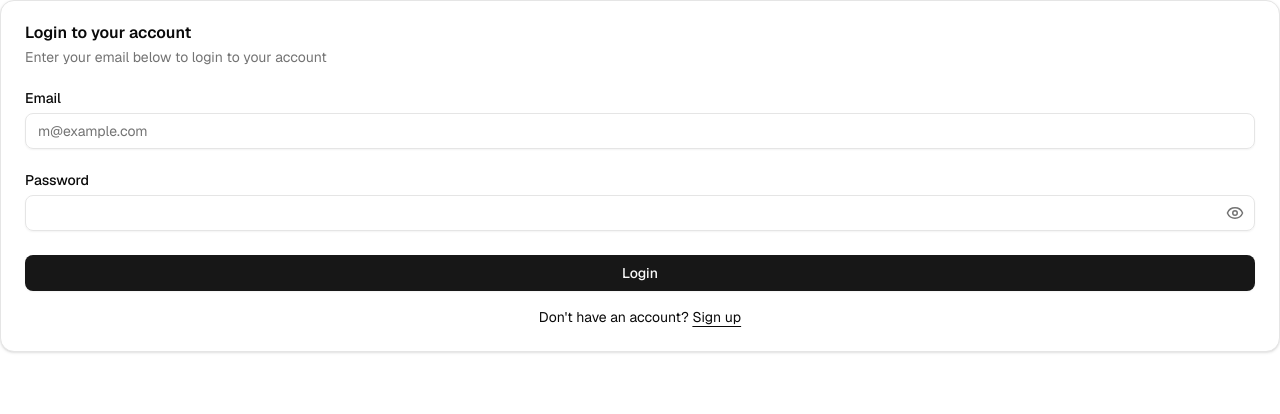
LoginForm › shows the server error and does not redirect
The width and height of the screenshot is (1280, 414).
Step 1. Type "john@example.com" into the field labelled "Email" → (640, 131), box [25, 113, 1255, 149]
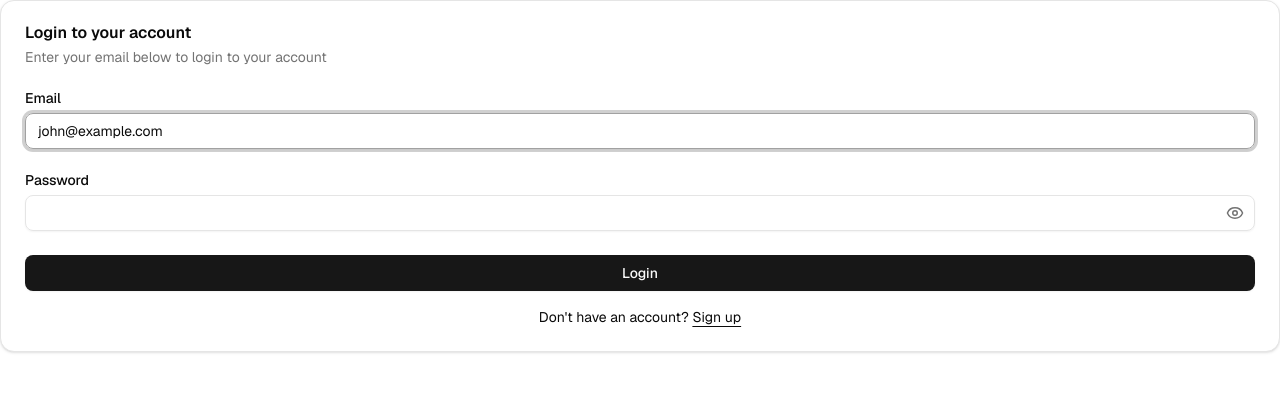
Step 2. Type "Str0ng!Passw0rd" into the password field labelled "Password" → (640, 213), box [25, 195, 1255, 231]
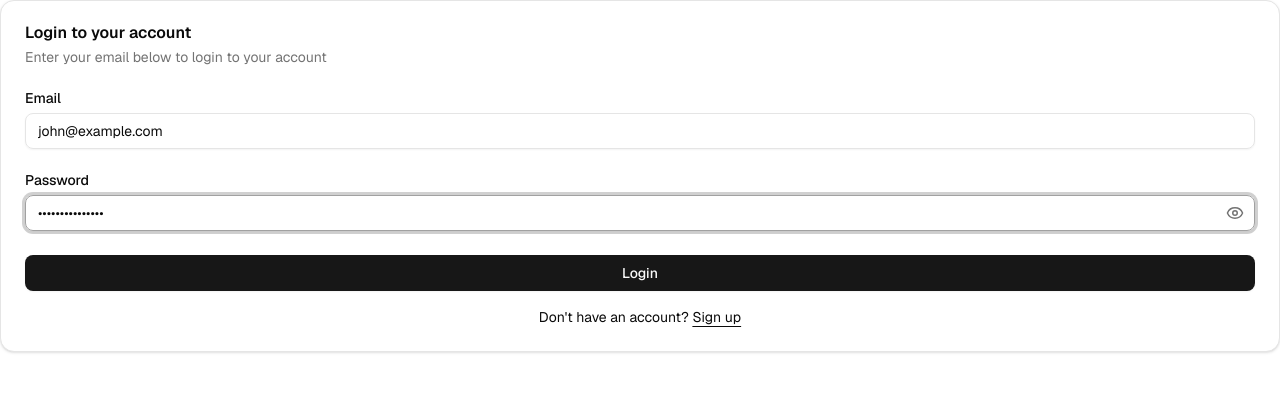
Step 3. Click the button "Login" → (640, 273), box [25, 255, 1255, 291]
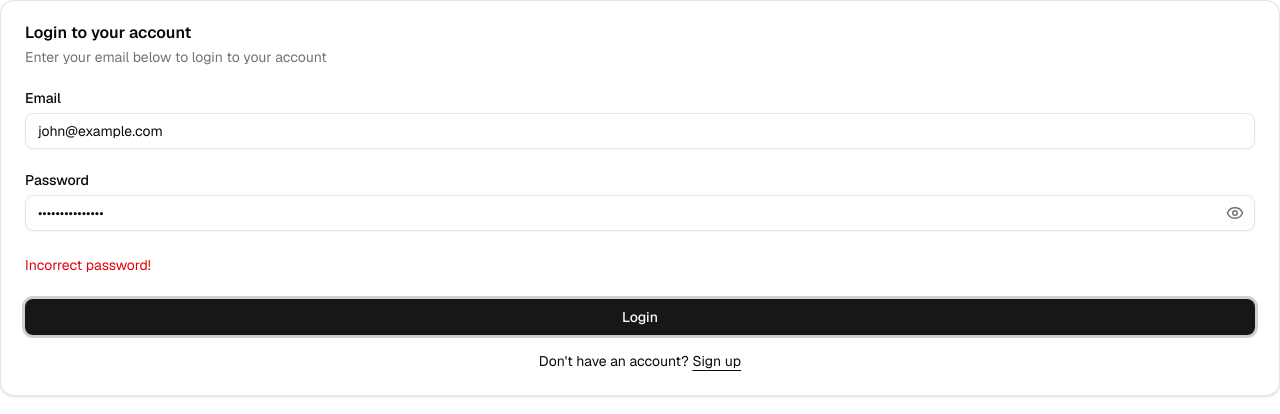
Now the message reads "Incorrect password!", box [25, 256, 151, 274]
